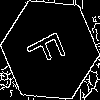F: (25, 25, 74, 72)
